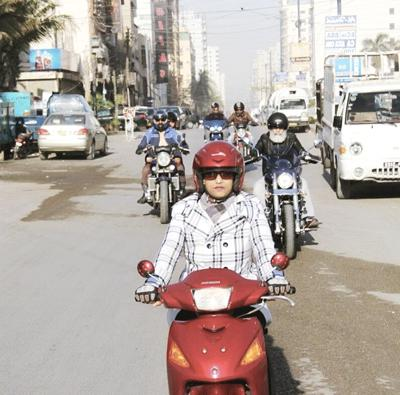With Helmet: (191, 138, 246, 202), (267, 110, 290, 144), (152, 107, 170, 131), (233, 100, 244, 117)
